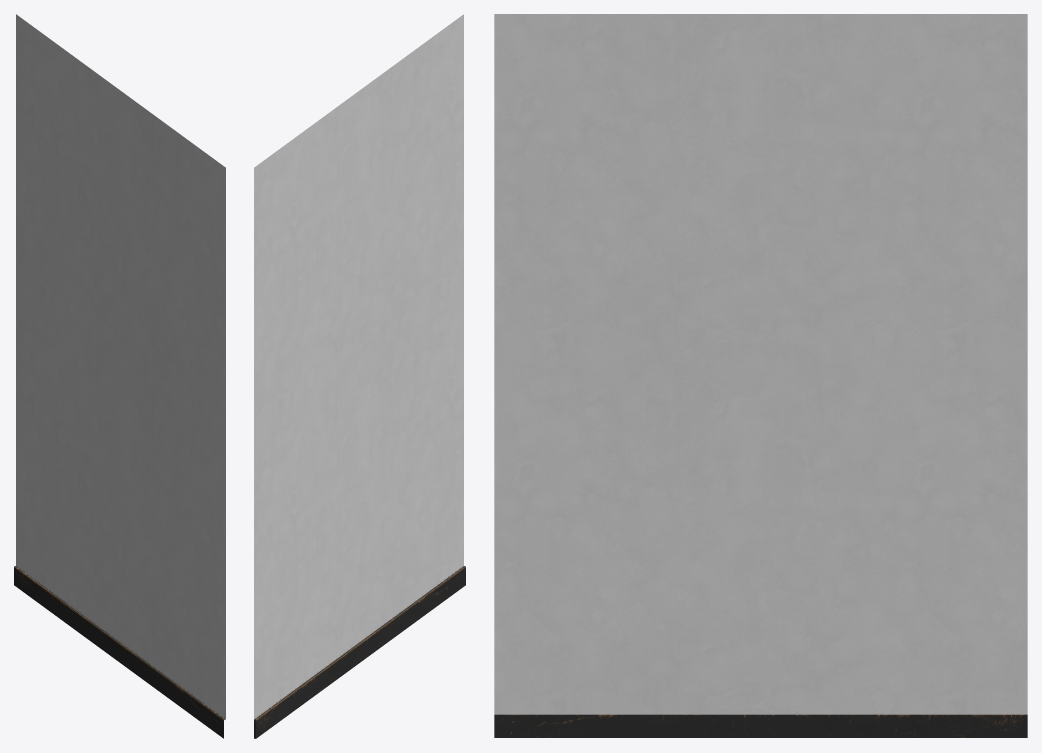
File: SM_InteriorWall_01_200.fbx
3 views of the same model, side by side, from view 1: azimuth 30°, elevation 25°; view 2: azimuth 150°, elevation 25°; view 3: azimuth 270°, elevation 25° (orthographic). The views are drawn at different scales.
Visible parts, largest first — view 1: SM_InteriorWall_01_200_LOD0; view 2: SM_InteriorWall_01_200_LOD0; view 3: SM_InteriorWall_01_200_LOD0.
Part boxes in pixels (x1,y1,x2,y2): SM_InteriorWall_01_200_LOD0: [14, 14, 225, 738]; SM_InteriorWall_01_200_LOD0: [254, 14, 465, 738]; SM_InteriorWall_01_200_LOD0: [494, 14, 1027, 737].
Size of the model in its own units: 1 by 200 by 300.
